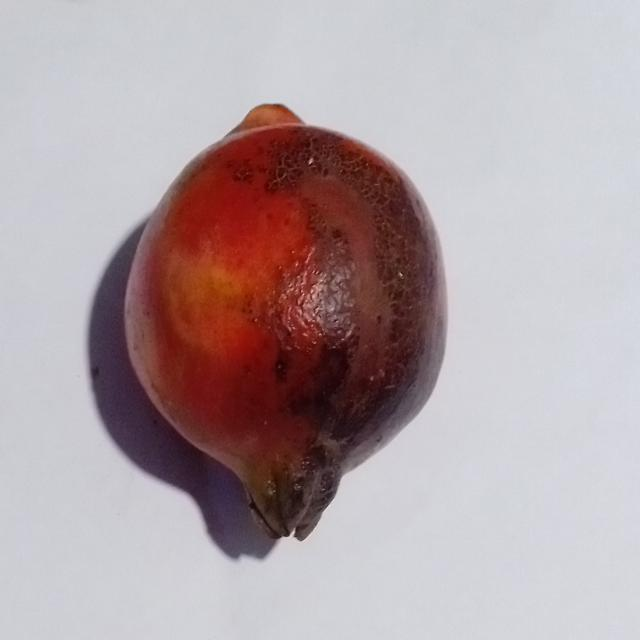Rotten: (120, 91, 454, 546)
